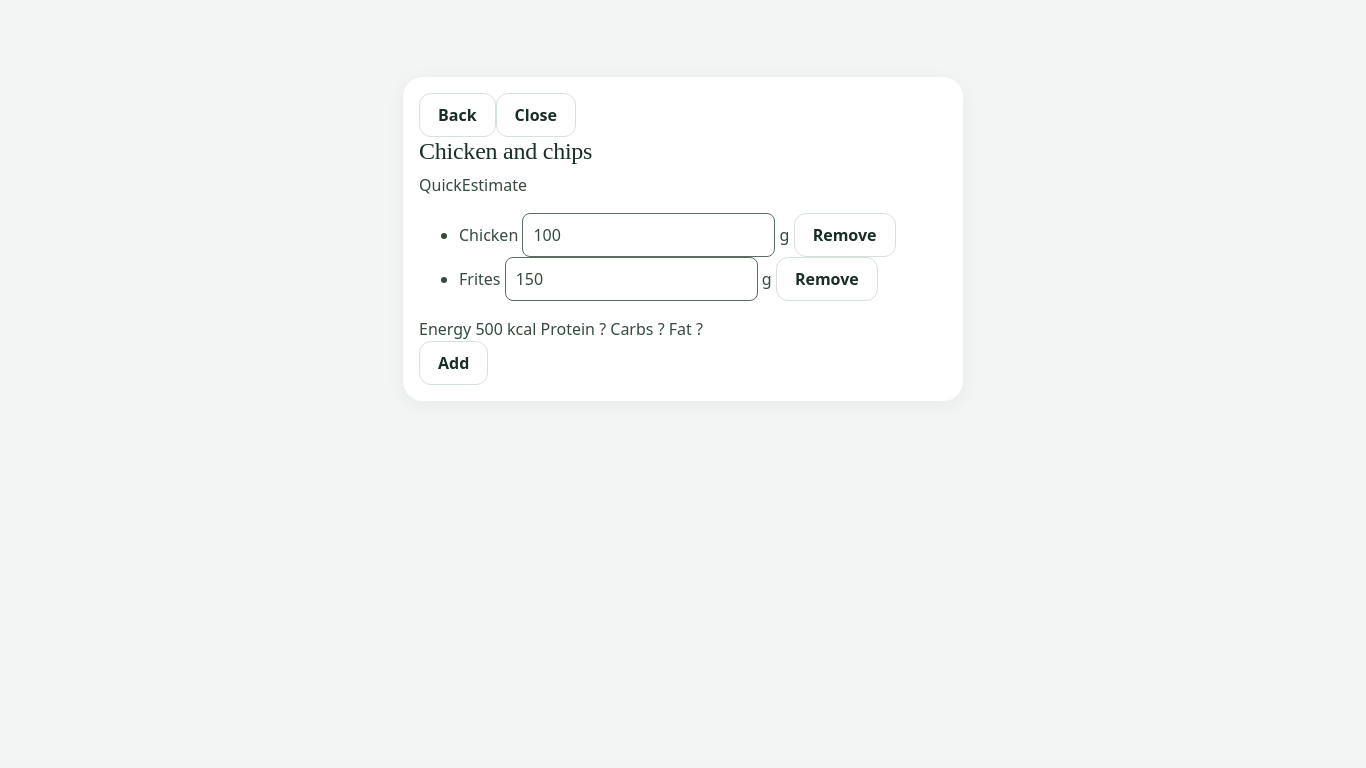
MealTemplateSheet › meal sheet lets grams change and an ingredient be removed before add
The width and height of the screenshot is (1366, 768).
Expected: the text "Chicken" is shown, [459,224,518,246]
Expected: the text "Frites" is shown, [459,268,500,290]
Step 1. Replace the text in the field named "Grams of Chicken" with "50" → (649, 235), box [522,213,775,257]
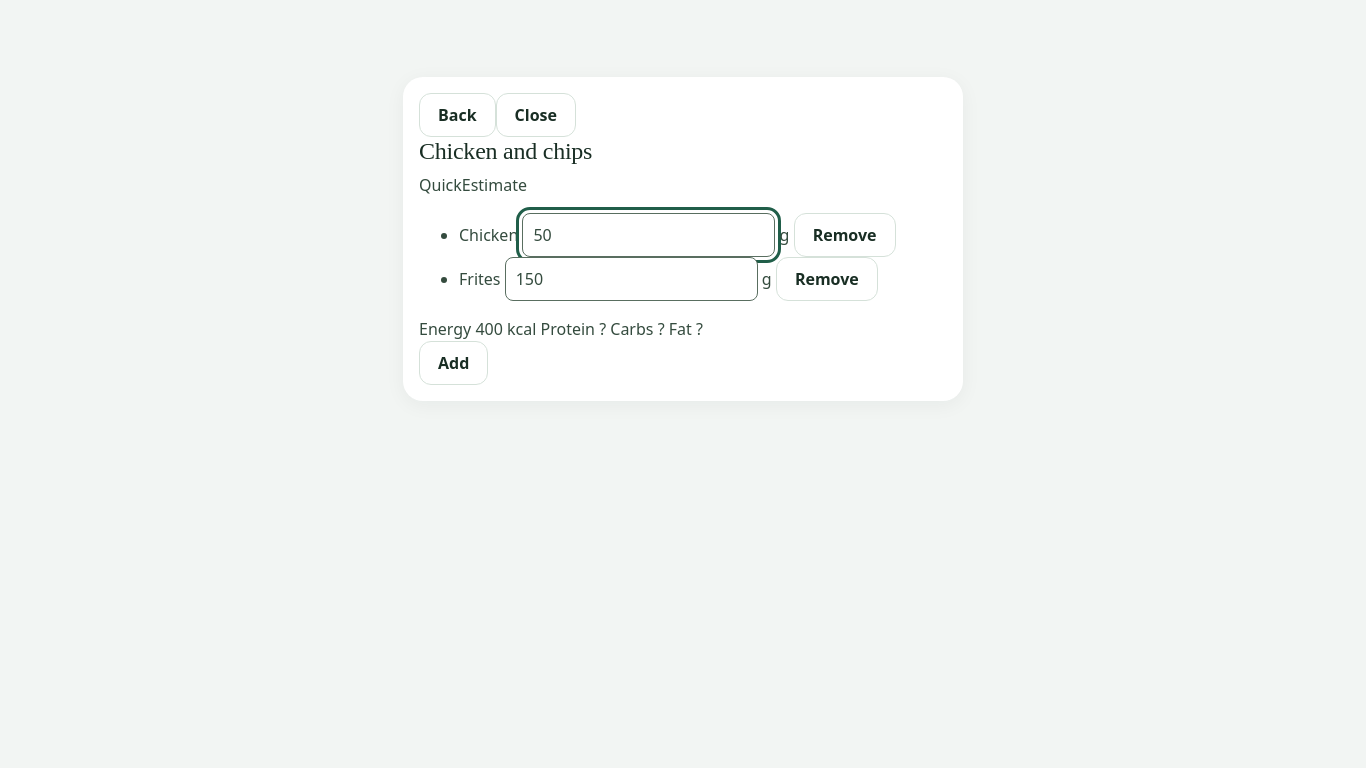
Now the element with test id "totals" shows "400", box [419,318,540,340]
Step 2. Click the button with aria-label "Remove Frites" → (827, 279), box [776,257,878,301]
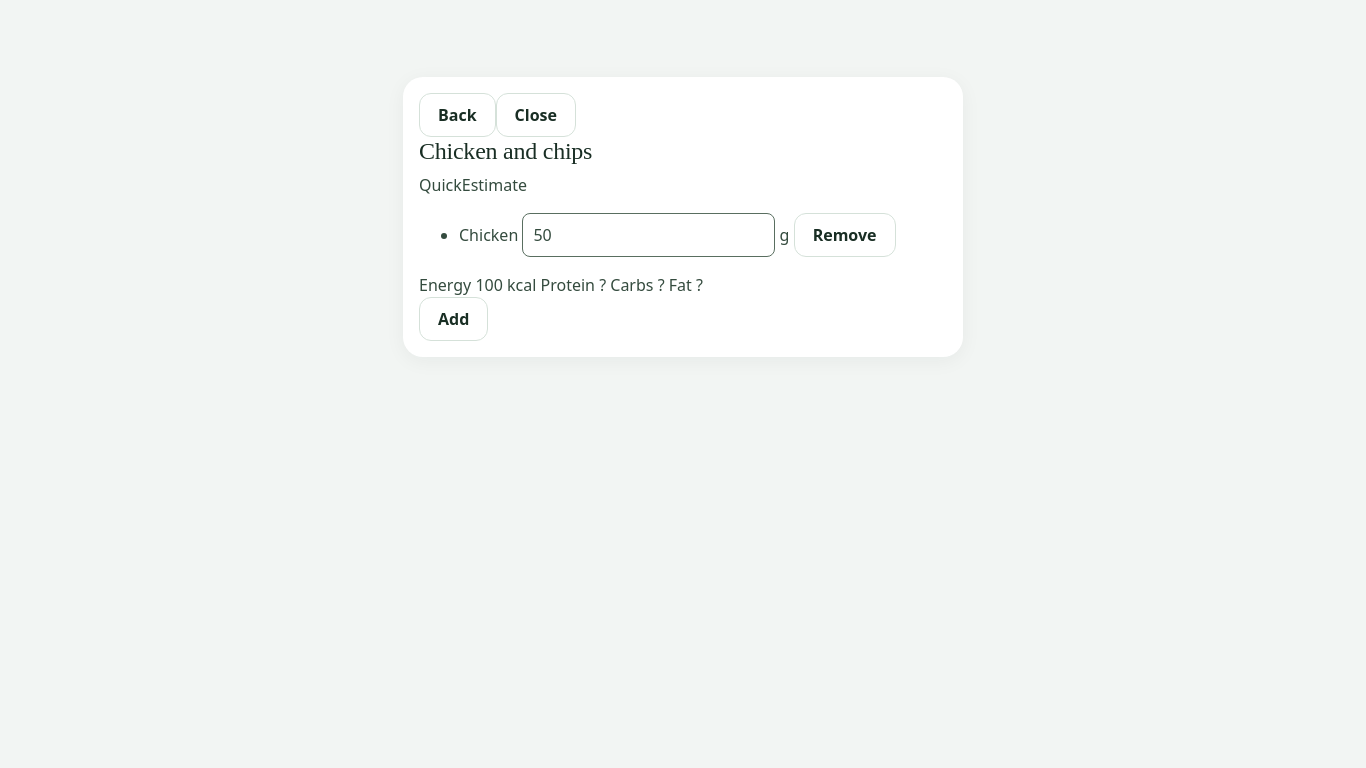
Now the text "Frites" is gone
Now the element with test id "totals" shows "100", box [419,274,540,296]
